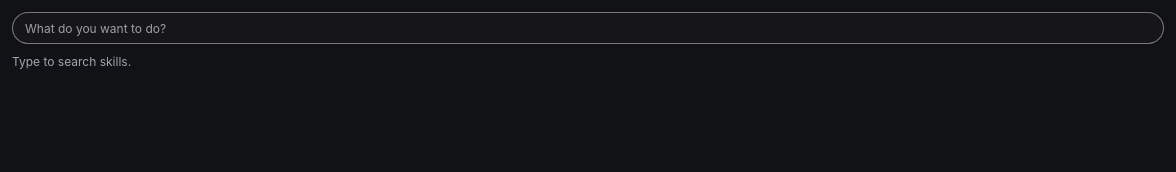
Test case: SkillPicker › lists ranked matches as user types
In the field with test id "skill-intent": coordinates (588, 28) [12,12,1164,44], type "summarize"
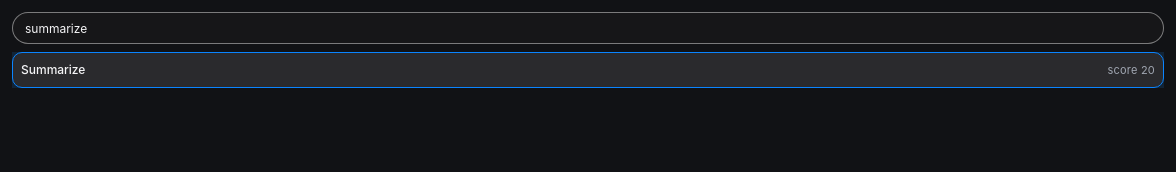
Expected: the button with test id "skill-option-sum" is shown, [12,52,1164,88]
